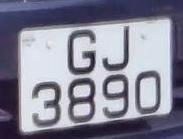0: (132, 65, 165, 118)
3: (28, 78, 66, 128)
8: (62, 75, 102, 126)
9: (98, 69, 132, 122)
G: (62, 28, 100, 77)
J: (95, 23, 138, 75)
